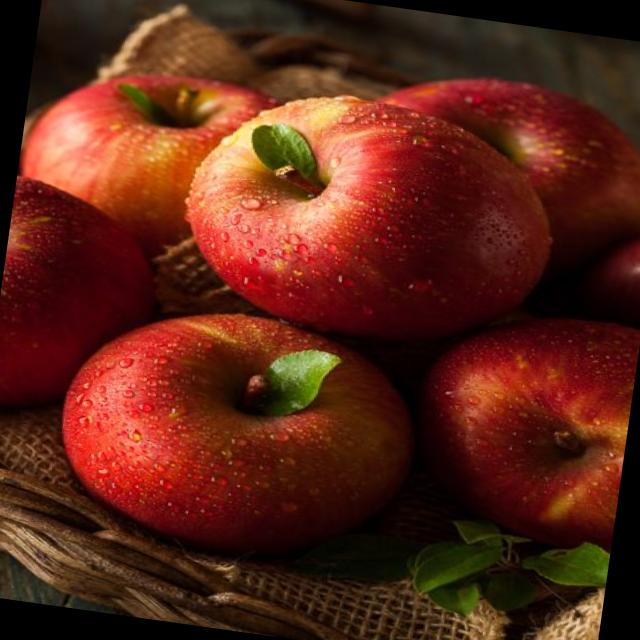Tao: (58, 294, 434, 580), (198, 76, 544, 354), (356, 62, 640, 275), (425, 287, 640, 557), (13, 57, 281, 267), (0, 174, 168, 431)
